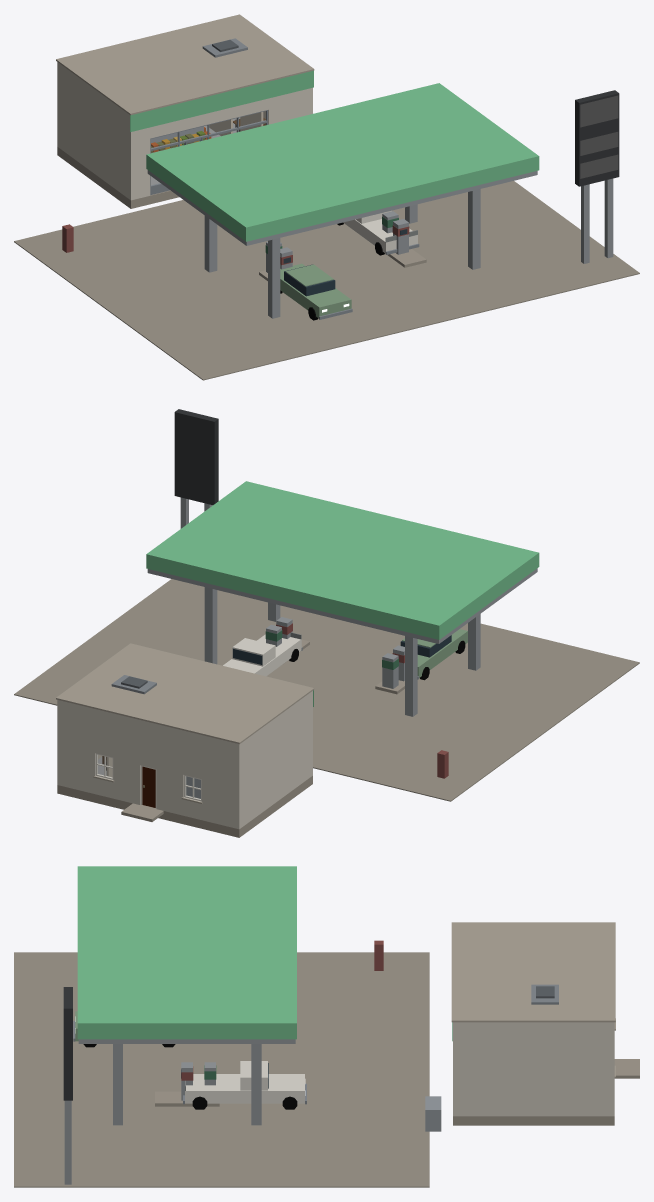
File: gas.glb
3 views of the same model, one above another, from view 1: azimuth 30°, elevation 25°; view 2: azimuth 150°, elevation 25°; view 3: azimuth 270°, elevation 25° (orthographic). The views are drawn at different scales.
Parts seen in each view (by area): view 1: LOD0, FURN; view 2: LOD0; view 3: LOD0.
Boxes of the visible parts, <box> form: LOD0: <box>14,14,639,380</box>; FURN: <box>151,118,265,153</box>; LOD0: <box>14,409,639,837</box>; LOD0: <box>14,866,639,1187</box>.
Size of what is drawn, in the model's own units: 24.1 by 8.9 by 27.1.
